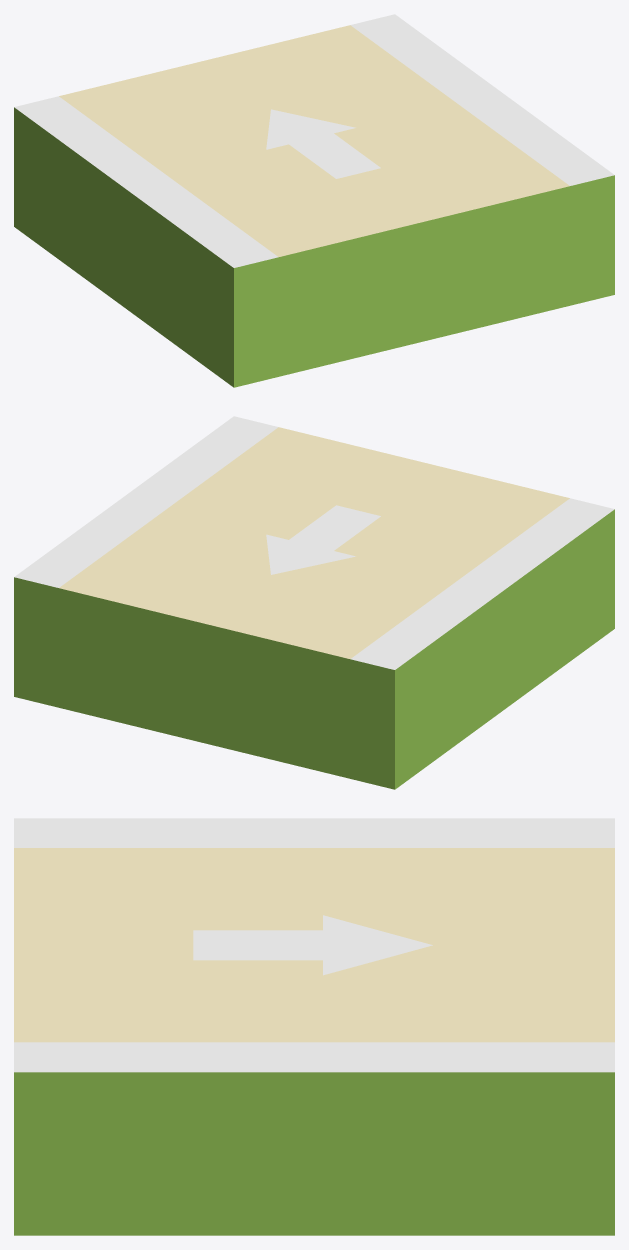
File: floor_basic4.fbx
3 views of the same model, one above another, from view 1: azimuth 30°, elevation 25°; view 2: azimuth 150°, elevation 25°; view 3: azimuth 270°, elevation 25° (orthographic). The views are drawn at different scales.
Visible parts, largest first — view 1: floor_basic4; view 2: floor_basic4; view 3: floor_basic4.
Part boxes in pixels (x1,y1,x2,y2): floor_basic4: (14,14,614,387); floor_basic4: (14,416,614,789); floor_basic4: (14,818,614,1235).
Bounding box in the file's own units: 100 × 30 × 100.
